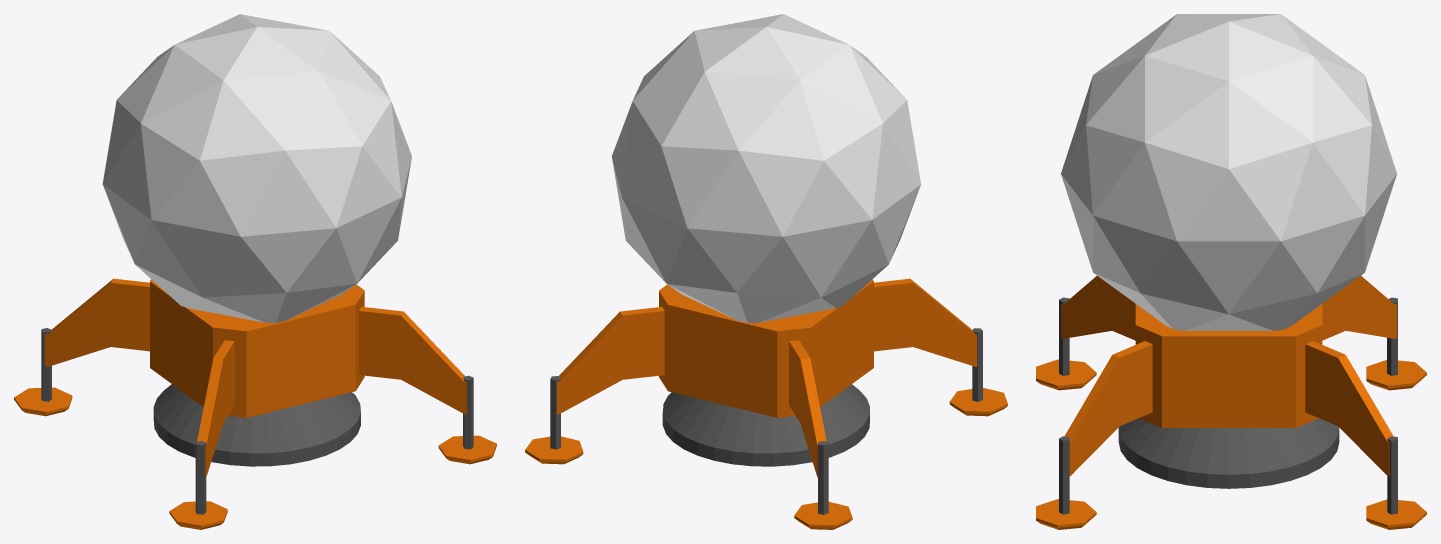
Rendered from Lander.gltf.
The picture shows the model from 3 angles, left to right: view 1: azimuth 30°, elevation 25°; view 2: azimuth 150°, elevation 25°; view 3: azimuth 270°, elevation 25°; orthographic projection. The views are drawn at different scales.
Parts seen in each view (by area): view 1: Icosphere.002, Cube.005, Cylinder.024, Cylinder.017, Cylinder.018, Cylinder.019, Cylinder.021, Cylinder.022, Cylinder.020; view 2: Icosphere.002, Cube.005, Cylinder.024, Cylinder.019, Cylinder.016, Cylinder.017, Cylinder.020, Cylinder.023, Cylinder.021; view 3: Icosphere.002, Cube.005, Cylinder.024, Cylinder.018, Cylinder.016, Cylinder.017, Cylinder.019, Cylinder.022, Cylinder.023, Cylinder.021, Cylinder.020.
Part boxes in pixels (x1,y1,x2,y2): Icosphere.002: (102, 14, 411, 322); Cube.005: (45, 278, 466, 478); Cylinder.024: (153, 384, 360, 466); Cylinder.017: (169, 501, 227, 529); Cylinder.018: (438, 435, 496, 464); Cylinder.019: (14, 387, 72, 416); Cylinder.021: (195, 441, 206, 514); Cylinder.022: (463, 375, 473, 449); Cylinder.020: (41, 328, 51, 401); Icosphere.002: (611, 14, 920, 322); Cube.005: (557, 278, 977, 477); Cylinder.024: (662, 384, 869, 466); Cylinder.019: (794, 502, 852, 529); Cylinder.016: (525, 436, 583, 464); Cylinder.017: (949, 387, 1007, 416); Cylinder.020: (818, 441, 828, 514); Cylinder.023: (550, 376, 560, 449); Cylinder.021: (972, 328, 982, 401); Icosphere.002: (1061, 14, 1396, 330); Cube.005: (1061, 276, 1396, 476); Cylinder.024: (1118, 418, 1339, 488); Cylinder.018: (1036, 499, 1096, 529); Cylinder.016: (1366, 499, 1426, 529); Cylinder.017: (1036, 359, 1096, 390); Cylinder.019: (1366, 360, 1426, 390); Cylinder.022: (1059, 436, 1069, 514); Cylinder.023: (1387, 436, 1397, 514); Cylinder.021: (1059, 297, 1069, 375); Cylinder.020: (1387, 297, 1397, 375).
Size of the model in its own units: 2.11 by 2.54 by 2.1.
